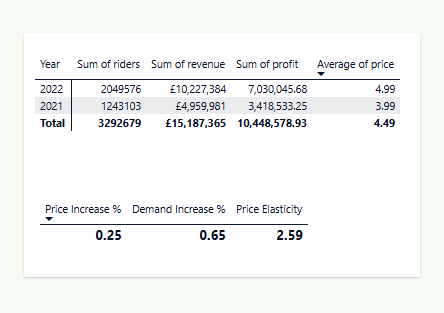

This screenshot's page, from the dashboard's own definition file:
{"tool":"powerbi","page":{"name":"Page 2","canvas":[1280,720],"ordinal":1},"visuals":[{"type":"pivotTable","fields":{"Rows":["Query1.Year"],"Values":["Sum(Query1.riders)","Sum(Query1.revenue)","Sum(Query1.profit)","Avg(Query1.price)"]},"box":[0,36,393,108],"z":0},{"type":"tableEx","fields":{"Values":["Query1.Price Increase %","Query1.Riders Increase %","Query1.Price Elasticity"]},"box":[0,186,292,57],"z":1000}]}

Visuals, with their boxes on the page's 1280x720 design canvas (x1, y1, x2, y2). These are canvas units, not pixel positions in the 444x313 screenshot, which may show the page scaled, cropped or inside an application window:
pivotTable - Query1.Year x Sum(Query1.riders): 0/36/393/144
tableEx - Query1.Price Increase % x Query1.Riders Increase %: 0/186/292/243
